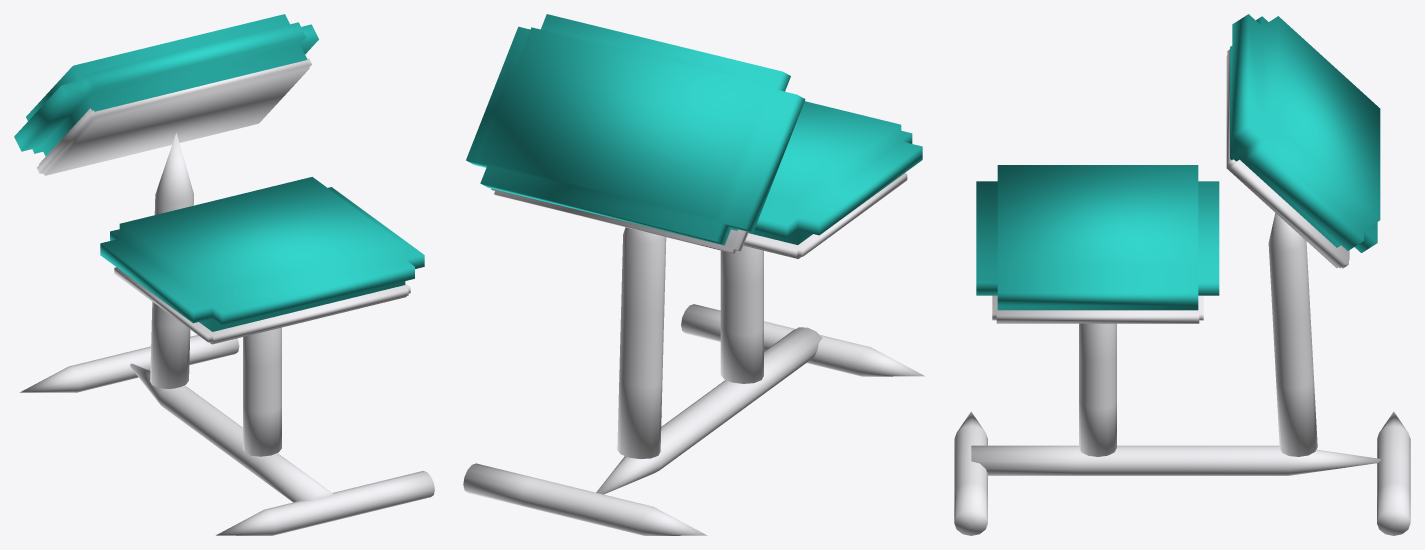
File: NeonSportBench.glb
3 renders of one model, left to right at view 1: azimuth 30°, elevation 25°; view 2: azimuth 150°, elevation 25°; view 3: azimuth 270°, elevation 25°, orthographic. The views are drawn at different scales.
Visible parts, largest first — view 1: NeonSportBench; view 2: NeonSportBench; view 3: NeonSportBench.
Part boxes in pixels (x1,y1,x2,y2): NeonSportBench: [14, 14, 434, 535]; NeonSportBench: [463, 14, 924, 535]; NeonSportBench: [954, 14, 1410, 535].
Size of the model in its own units: 2.14 by 3.11 by 3.13.
1 material, 1 textured.
